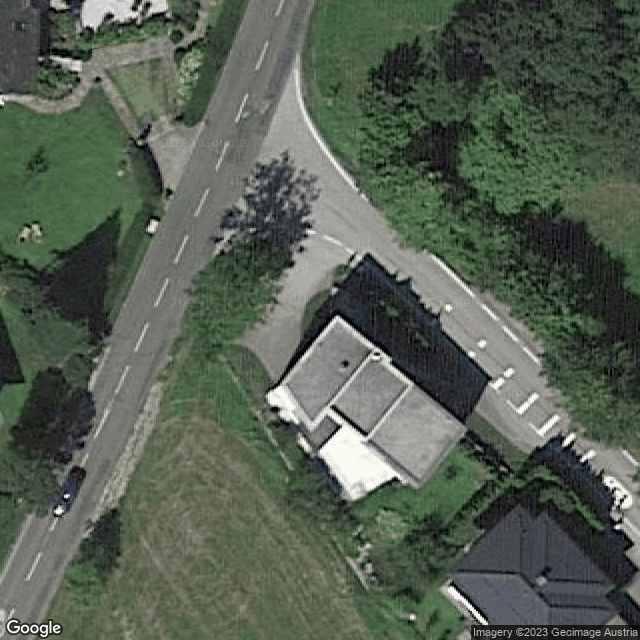obstacles: (534, 575, 548, 588), (336, 363, 349, 375), (370, 352, 382, 363), (13, 22, 24, 33)
ridge: (519, 574, 549, 609), (534, 578, 545, 590)
roof: (447, 505, 619, 623), (362, 383, 465, 488), (281, 317, 375, 431), (327, 348, 412, 440), (1, 1, 41, 97)
valley: (549, 606, 619, 611), (545, 578, 611, 583), (450, 573, 520, 575), (545, 514, 546, 578), (548, 606, 549, 623)
